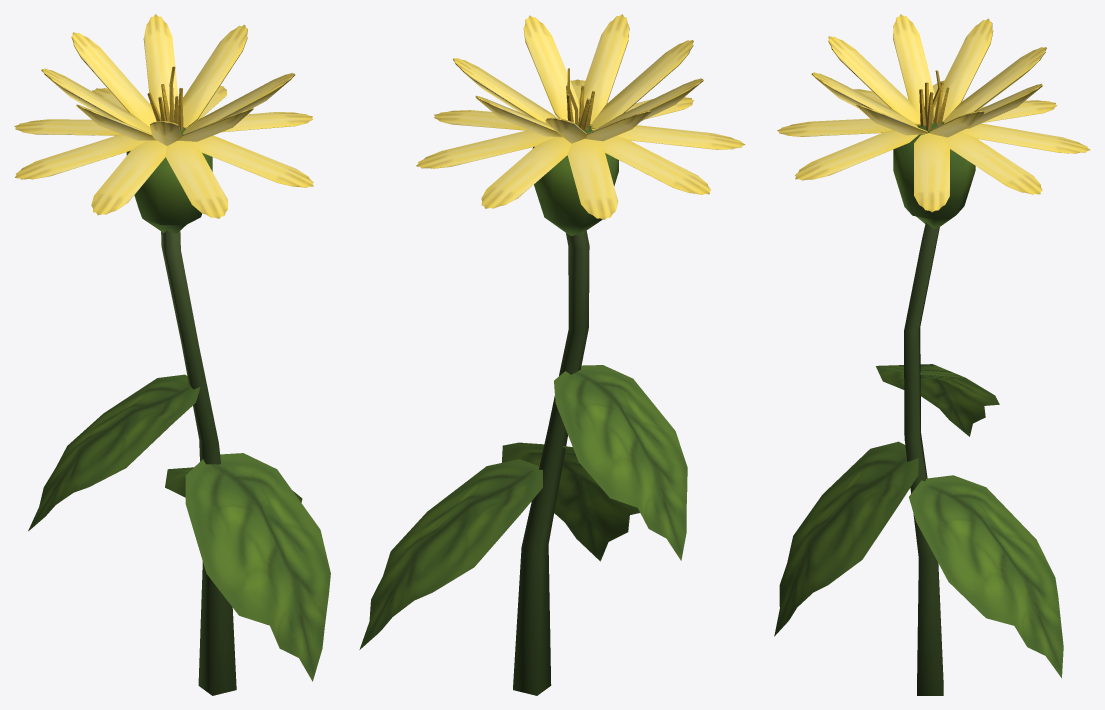
The model's file is Wildflower_Lapsana.fbx.
The picture shows the model from 3 angles, left to right: view 1: azimuth 30°, elevation 25°; view 2: azimuth 150°, elevation 25°; view 3: azimuth 270°, elevation 25°; orthographic projection. The views are drawn at different scales.
Visible parts, largest first — view 1: WildFlower_Lapsana; view 2: WildFlower_Lapsana; view 3: WildFlower_Lapsana.
Part boxes in pixels (x1,y1,x2,y2): WildFlower_Lapsana: [14, 14, 330, 695]; WildFlower_Lapsana: [359, 14, 745, 695]; WildFlower_Lapsana: [774, 14, 1090, 695].
Size of the model in its own units: 0.4848 by 0.9706 by 0.4608.
